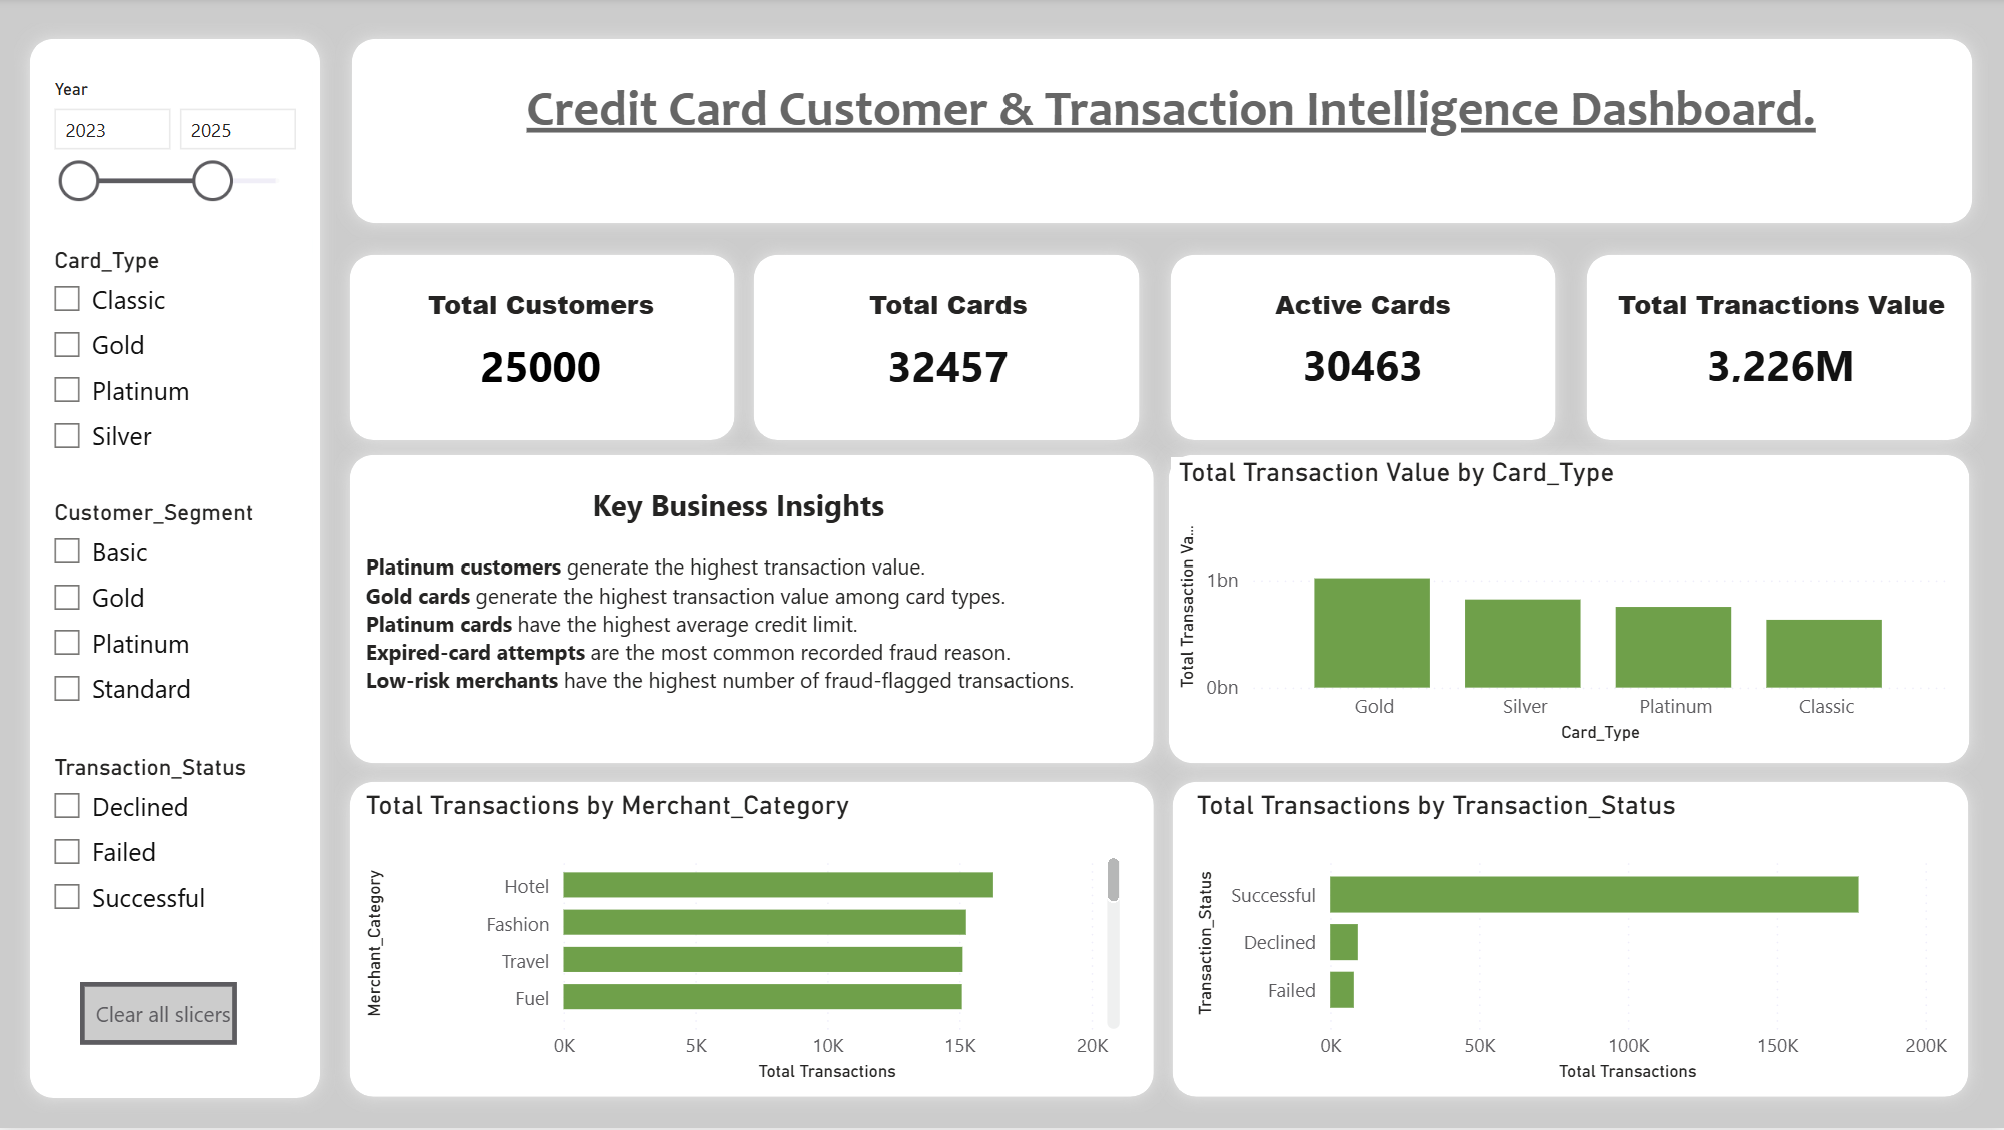

Layout of this report page (visuals, bound fields, positions):
{"tool":"powerbi","page":{"name":"Executive Overview","canvas":[1280,720],"ordinal":0},"visuals":[{"type":"shape","box":[10.9,16.4,205.1,694.7],"z":0},{"type":"shape","box":[1002.9,154.6,265.3,138.1],"z":1000},{"type":"shape","box":[738.5,154.5,265.3,138.1],"z":2000},{"type":"shape","box":[473.2,154.5,265.3,138.1],"z":3000},{"type":"shape","box":[216.1,154.5,265.3,138.1],"z":4000},{"type":"shape","box":[736.7,282.1,530.4,216],"z":5000},{"type":"shape","box":[739.9,490.1,527.2,220.9],"z":6000},{"type":"shape","box":[216,282.1,532,216],"z":7000},{"type":"shape","box":[216,490.1,532,220.9],"z":8000},{"type":"shape","box":[216.7,16.4,1052.4,137.7],"z":9000},{"type":"textbox","box":[249.5,46.3,997.8,83.2],"z":11000},{"type":"cardVisual","title":"Total Customers","fields":{"Data":["FactTransaction.Total Customers"]},"box":[262.8,185.4,169.6,79],"z":12000},{"type":"cardVisual","title":"Active Cards","fields":{"Data":["FactTransaction.Active Cards"]},"box":[780.3,185.4,181,77.8],"z":13000},{"type":"cardVisual","title":"Total Tranactions Value","fields":{"Data":["FactTransaction.Total Transaction Value"]},"box":[1004.6,185.4,265.8,77.7],"z":14000},{"type":"cardVisual","title":"Total Cards","fields":{"Data":["FactTransaction.Total Cards"]},"box":[522.3,185.4,168.3,79],"z":15000},{"type":"columnChart","fields":{"Category":["DimCard.Card_Type"],"Y":["FactTransaction.Total Transaction Value"]},"box":[748,293.4,499.7,185.4],"z":17000},{"type":"barChart","fields":{"Category":["FactTransaction.Transaction_Status"],"Y":["FactTransaction.Total Transactions"]},"box":[759.3,504.6,488.5,190.2],"z":18000},{"type":"barChart","fields":{"Category":["FactTransaction.Merchant_Category"],"Y":["FactTransaction.Total Transactions"]},"box":[230.5,504.6,490.1,190.2],"z":19000},{"type":"slicer","fields":{"Values":["DimDate.Year"]},"box":[24.2,46.8,177.3,116.1],"z":20000},{"type":"slicer","fields":{"Values":["DimCustomer.Customer_Segment"]},"box":[24.2,314.4,177.3,149.9],"z":21000},{"type":"slicer","fields":{"Values":["DimCard.Card_Type"]},"box":[24.2,154.8,177.3,151.5],"z":22000},{"type":"slicer","fields":{"Values":["FactTransaction.Transaction_Status"]},"box":[24.2,477.2,177.3,137],"z":23000},{"type":"textbox","box":[231.2,306.2,490,173],"z":23001},{"type":"actionButton","box":[53.6,627.8,100,40],"z":23002}]}

Visuals, with their boxes in screenshot pixels (x1, y1, x2, y2), scaled from the page's 1280x720 canvas onto the 2004x1130 screenshot:
shape: left=17, top=26, right=338, bottom=1116
shape: left=1570, top=243, right=1986, bottom=459
shape: left=1156, top=242, right=1572, bottom=459
shape: left=741, top=242, right=1156, bottom=459
shape: left=338, top=242, right=754, bottom=459
shape: left=1153, top=443, right=1984, bottom=782
shape: left=1158, top=769, right=1984, bottom=1116
shape: left=338, top=443, right=1171, bottom=782
shape: left=338, top=769, right=1171, bottom=1116
shape: left=339, top=26, right=1987, bottom=242
textbox: left=391, top=73, right=1953, bottom=203
"Total Customers" cardVisual: left=411, top=291, right=677, bottom=415
"Active Cards" cardVisual: left=1222, top=291, right=1505, bottom=413
"Total Tranactions Value" cardVisual: left=1573, top=291, right=1989, bottom=413
"Total Cards" cardVisual: left=818, top=291, right=1081, bottom=415
columnChart - DimCard.Card_Type x FactTransaction.Total Transaction Value: left=1171, top=460, right=1953, bottom=751
barChart - FactTransaction.Transaction_Status x FactTransaction.Total Transactions: left=1189, top=792, right=1954, bottom=1090
barChart - FactTransaction.Merchant_Category x FactTransaction.Total Transactions: left=361, top=792, right=1128, bottom=1090
slicer - DimDate.Year: left=38, top=73, right=315, bottom=256
slicer - DimCustomer.Customer_Segment: left=38, top=493, right=315, bottom=729
slicer - DimCard.Card_Type: left=38, top=243, right=315, bottom=481
slicer - FactTransaction.Transaction_Status: left=38, top=749, right=315, bottom=964
textbox: left=362, top=481, right=1129, bottom=752
actionButton: left=84, top=985, right=240, bottom=1048
